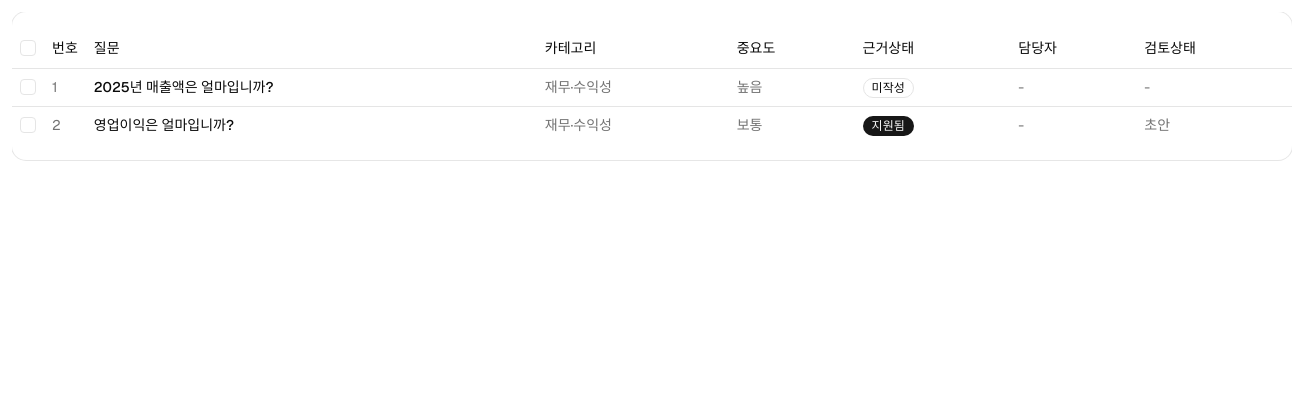
Test: QuestionsTable › 답변 생성 버튼은 선택된 질문마다 answer-jobs를 POST한다
What coordinates should you click on to do the following:
click the checkbox named "전체 선택"
I would click on:
 (28, 48)
Its box is [20,40,36,56].
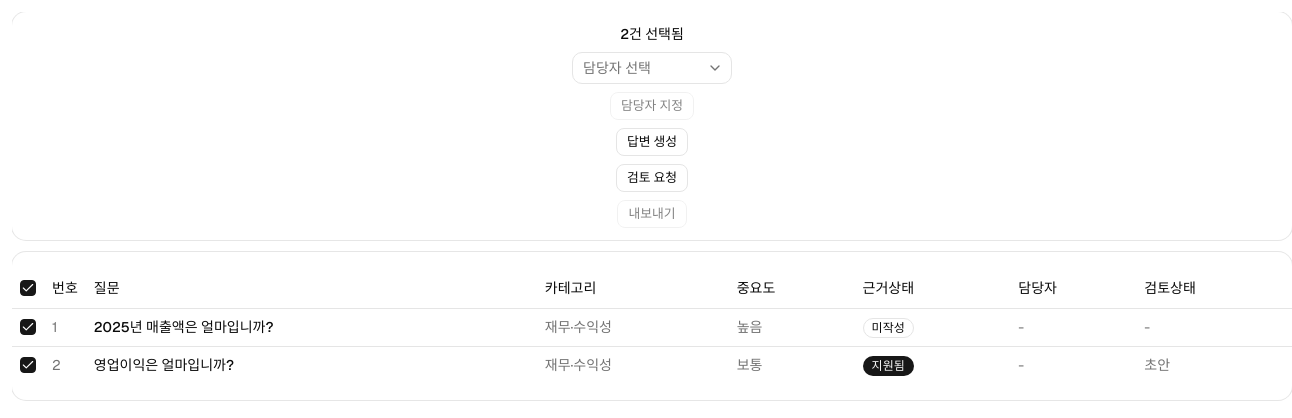
What coordinates should you click on to do the following:
click the button "답변 생성"
I would click on:
 (652, 142)
Its box is [616,128,688,156].
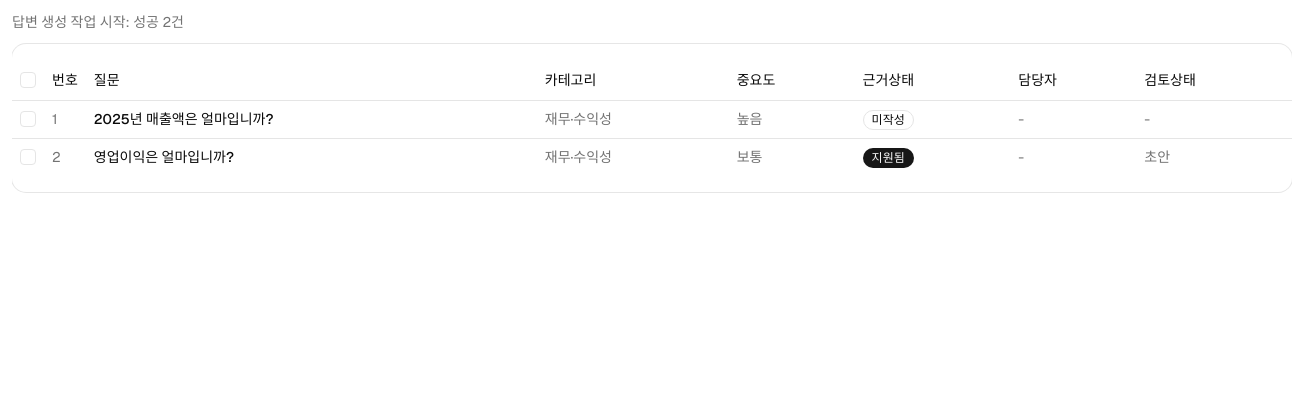
Expected: the text "답변 생성 작업 시작: 성공 2건" is shown, [12,13,184,31]
